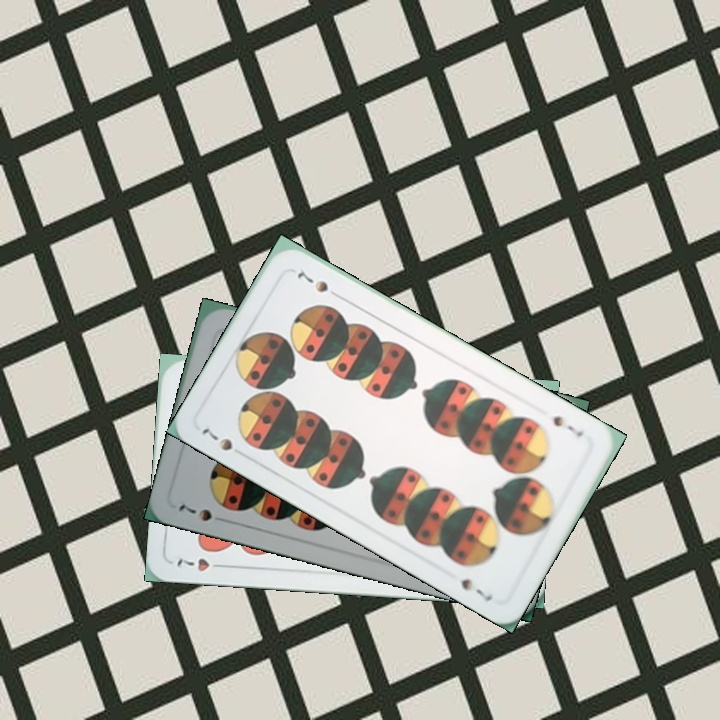H7: (173, 554, 229, 574)
S7: (198, 424, 250, 461), (174, 500, 231, 526), (548, 411, 586, 439)
